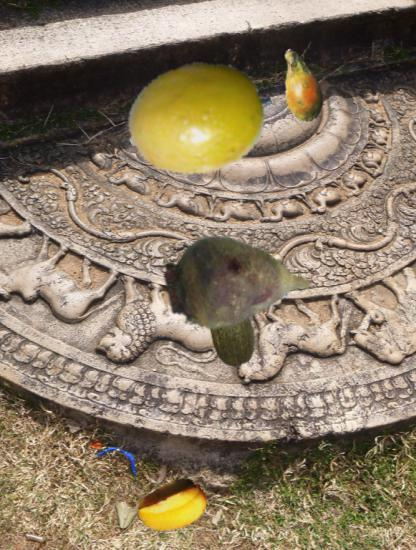Beetroot: (163, 204, 313, 354)
Cactus: (265, 47, 341, 123)
Carambula: (137, 472, 207, 542)
Maracuja: (127, 46, 273, 192)
Melon: (194, 299, 263, 368)
